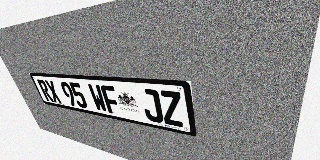5: (69, 82, 89, 109)
9: (59, 81, 78, 107)
F: (100, 85, 122, 115)
J: (139, 88, 164, 124)
R: (36, 79, 54, 102)
W: (87, 84, 108, 113)
X: (44, 80, 62, 104)
Z: (159, 90, 184, 128)
